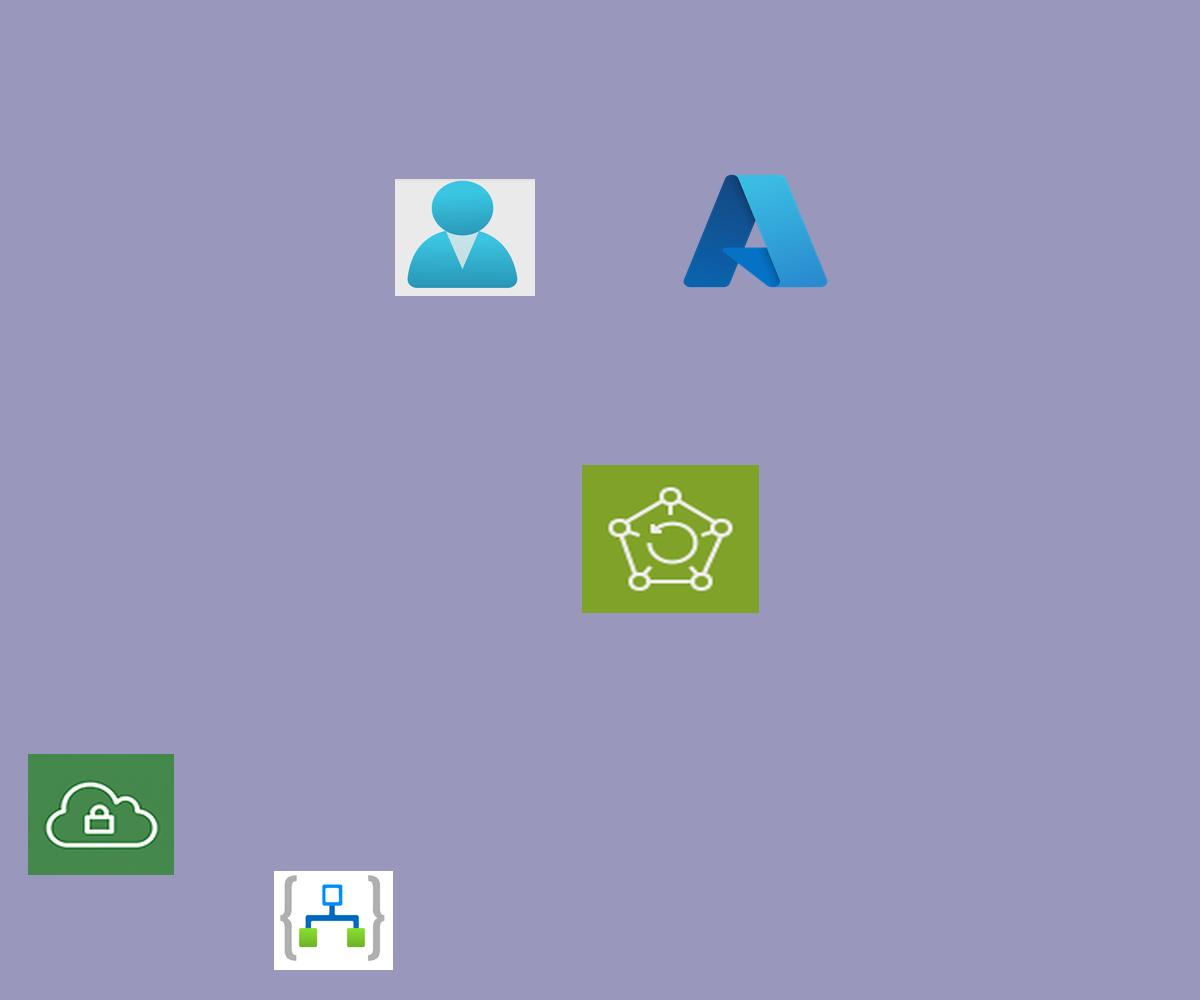AWS-Backup: (582, 465, 759, 613)
AWS-Private_vpc: (28, 754, 174, 875)
Azure_integration-204-Logic-Apps: (274, 871, 393, 970)
Azure_services: (677, 166, 834, 296)
Azure_users: (395, 179, 535, 296)
